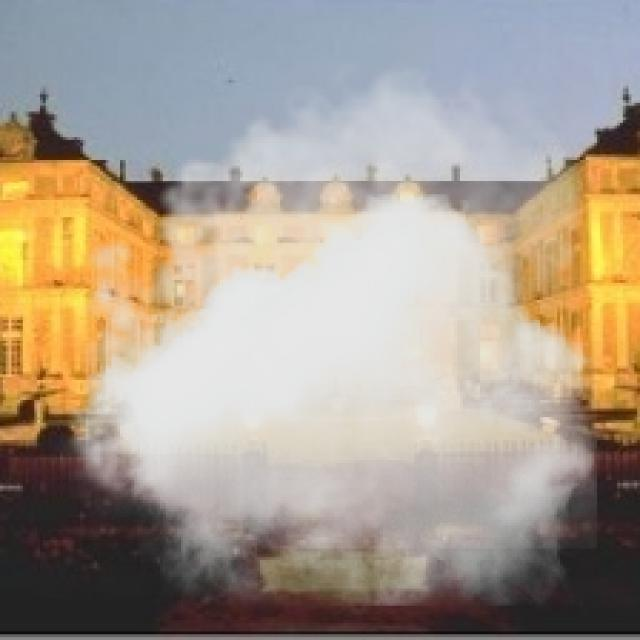smoke: (52, 49, 597, 606)
